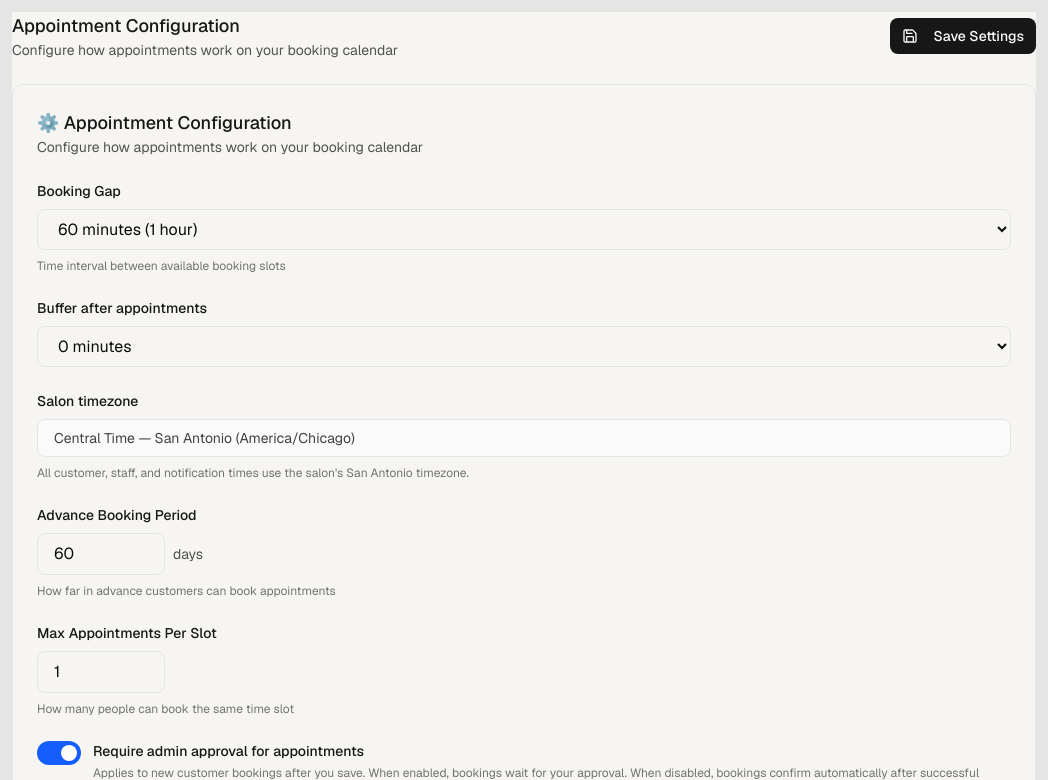
Test case: appointment settings › reloads current settings after a conflict
Expected: the heading "Appointment Configuration" is shown, x1=12 y1=14 x2=240 y2=37
Click the button "Save Settings" at point(963, 36), box x1=890 y1=18 x2=1036 y2=54
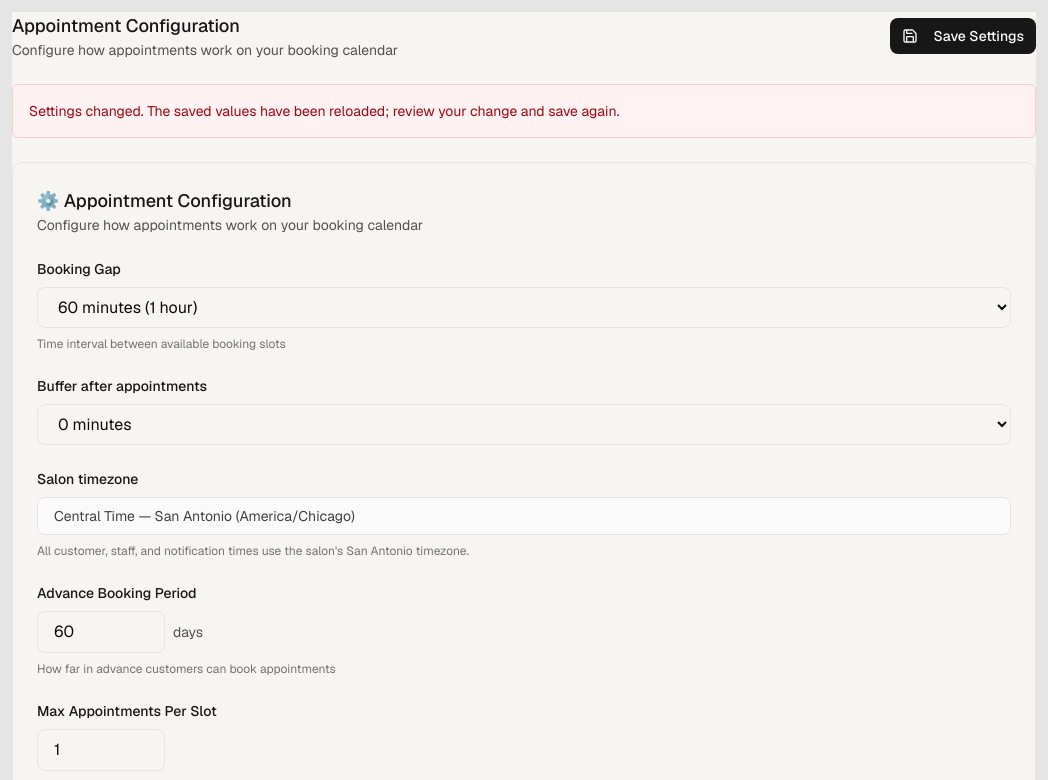
Now the text "saved values have been reloaded" is shown, box x1=29 y1=102 x2=619 y2=120
